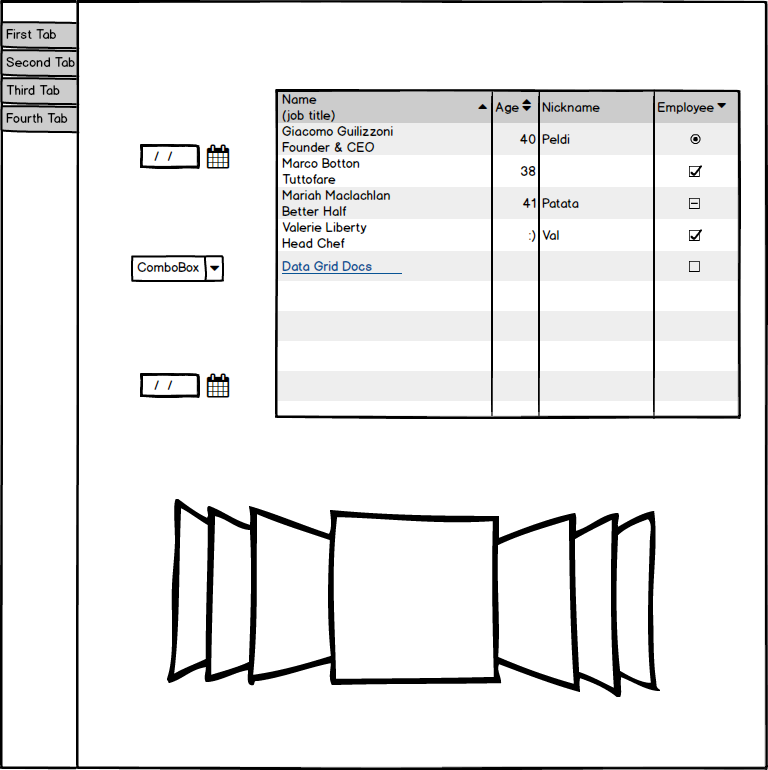date_picker: (131, 133, 238, 176), (135, 366, 239, 404)
select_box: (126, 250, 231, 290)
sidebar: (4, 15, 86, 140)
slideshow: (150, 490, 677, 706)
table: (271, 81, 745, 429)
